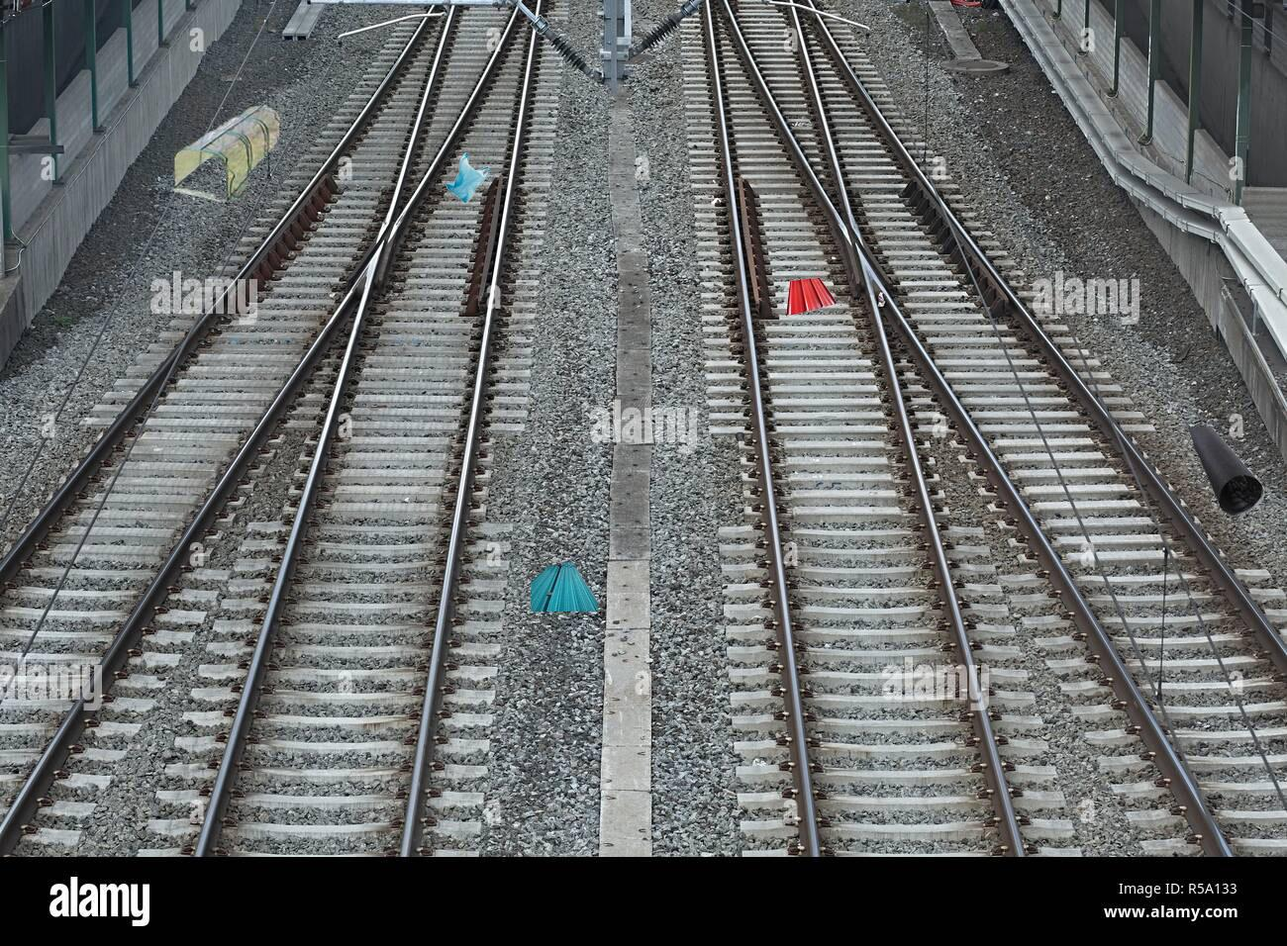Color_steel: (519, 548, 602, 623), (774, 269, 834, 338)
Green_house: (162, 103, 287, 206)
Plastic: (432, 144, 491, 206)
